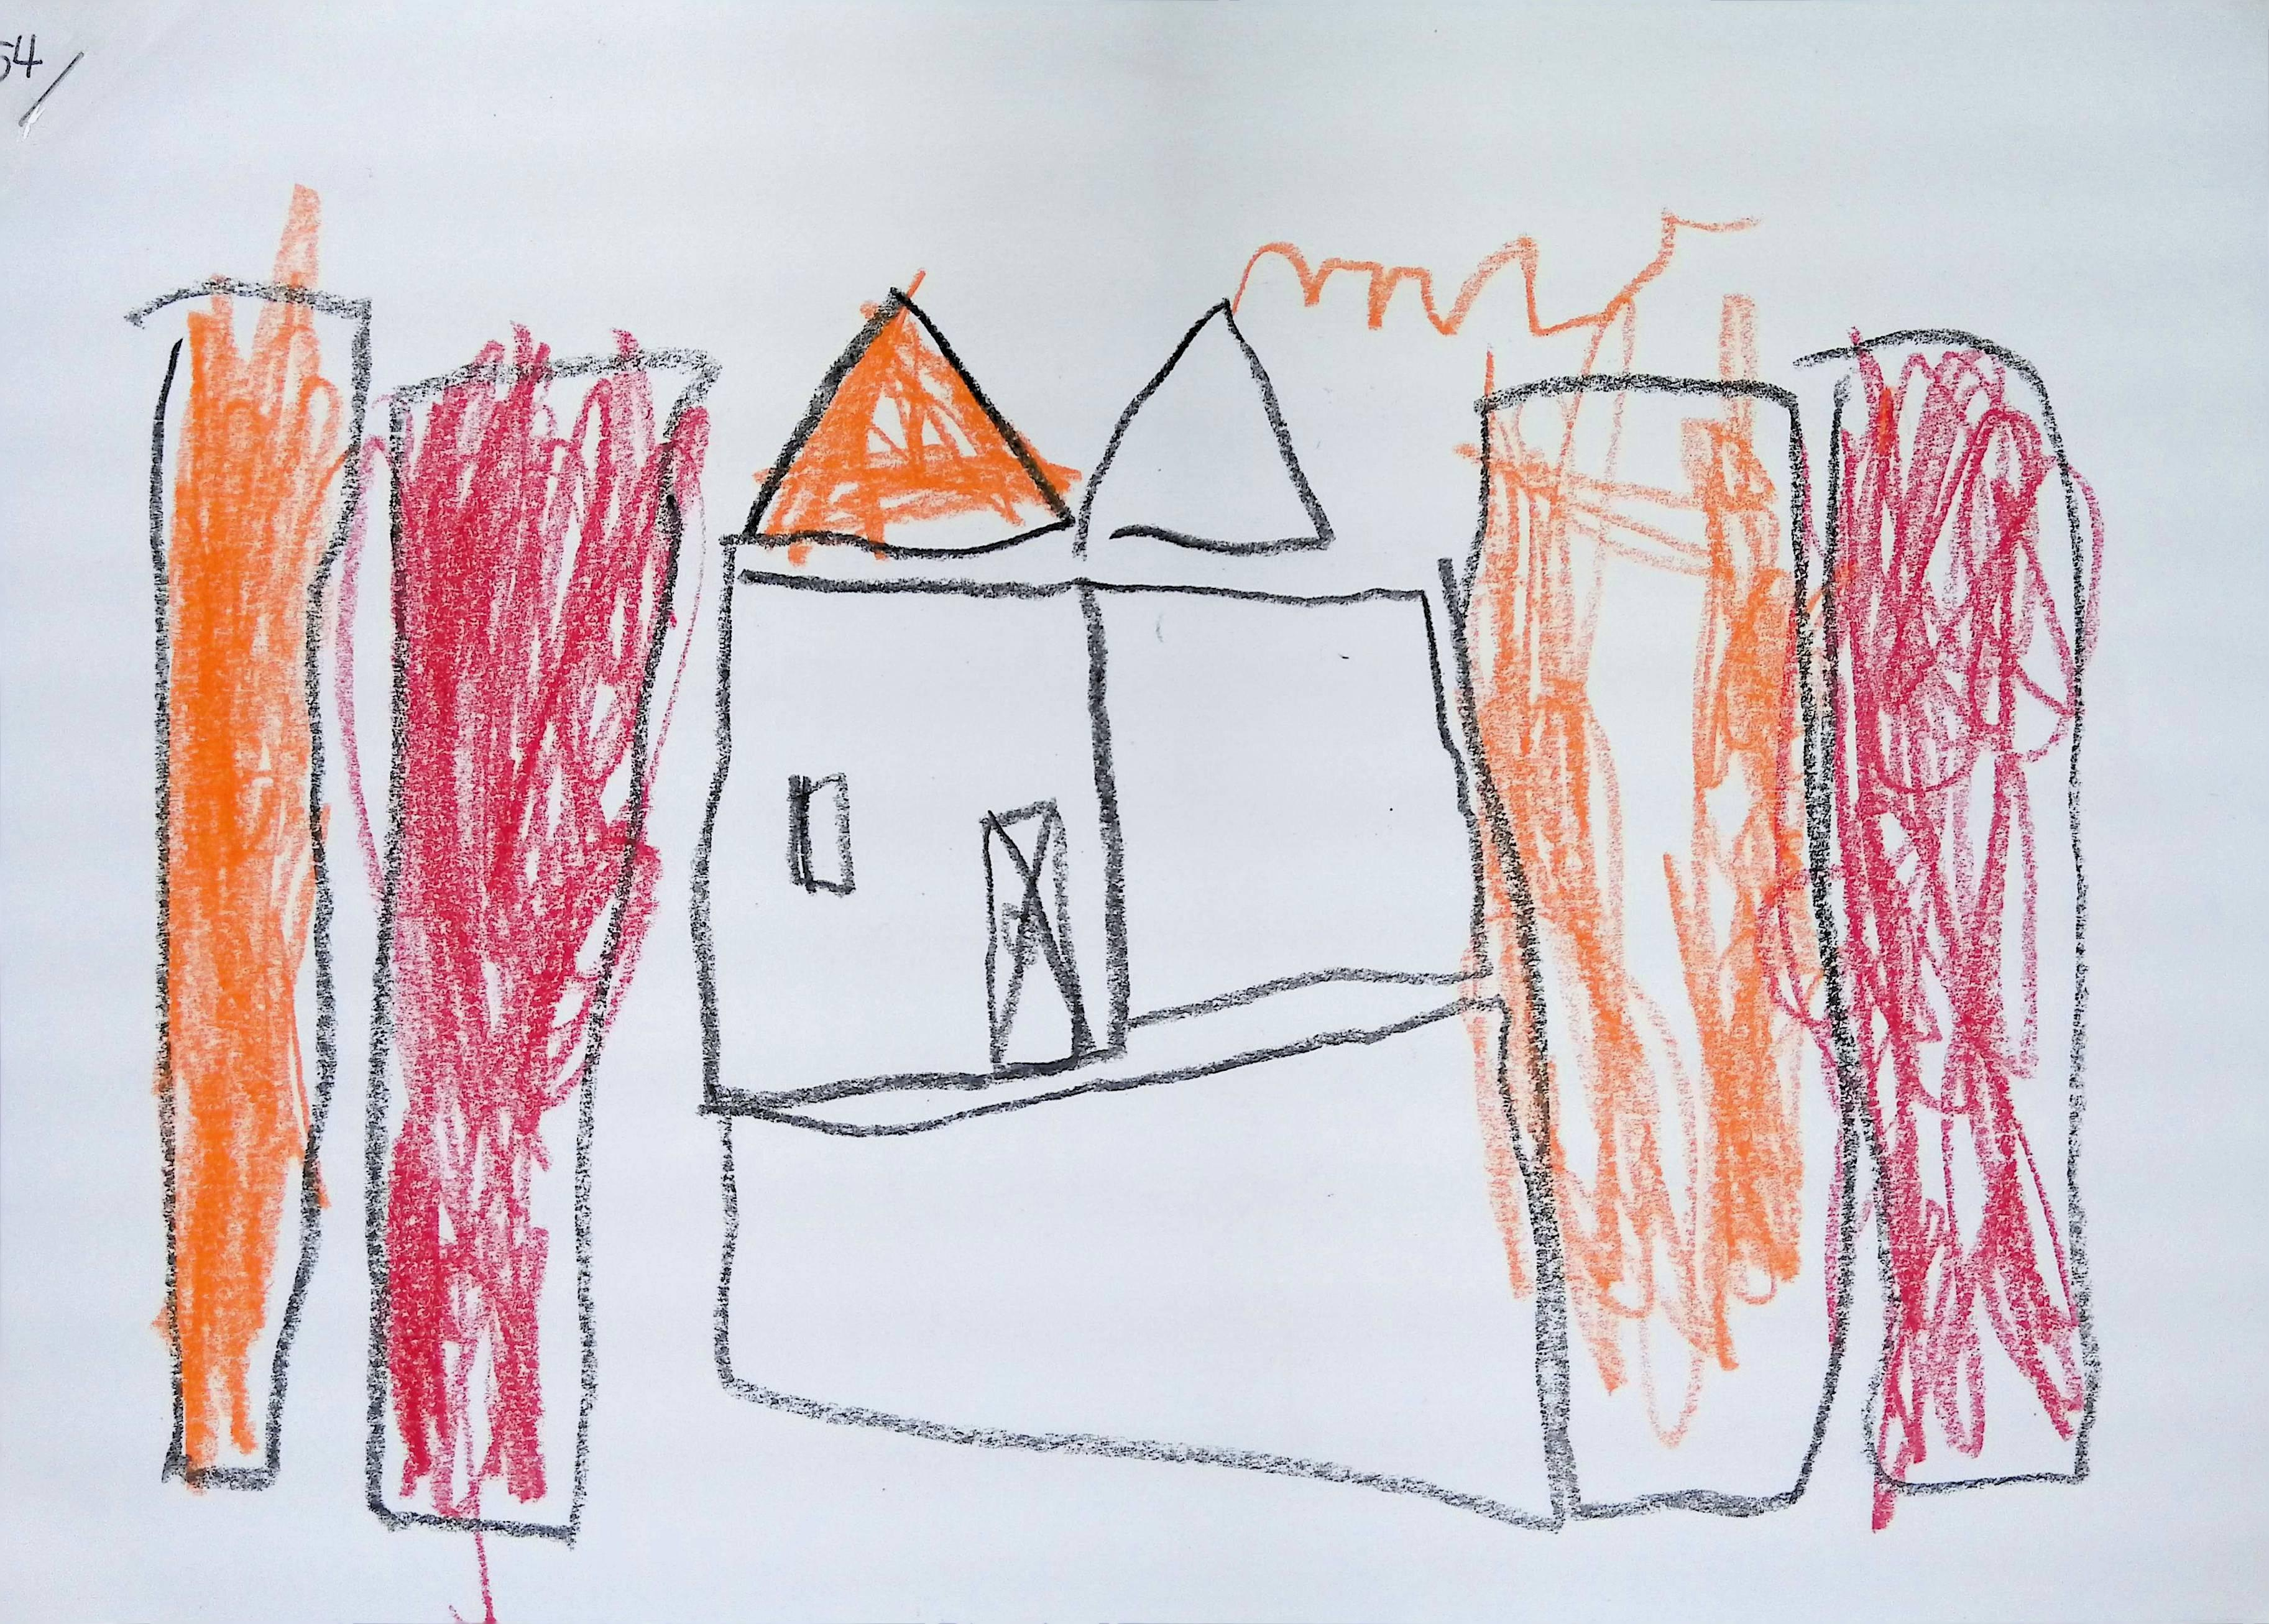door: (977, 801, 1098, 1091)
house: (682, 283, 1120, 1121), (1076, 304, 1492, 1030)
roof: (743, 286, 1070, 550), (1076, 297, 1334, 555)
wall: (694, 575, 1123, 1106), (1090, 578, 1496, 1040)
window: (798, 773, 849, 896)
